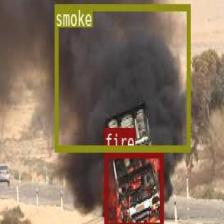fire: (103, 150, 163, 224)
smoke: (54, 3, 190, 150)
